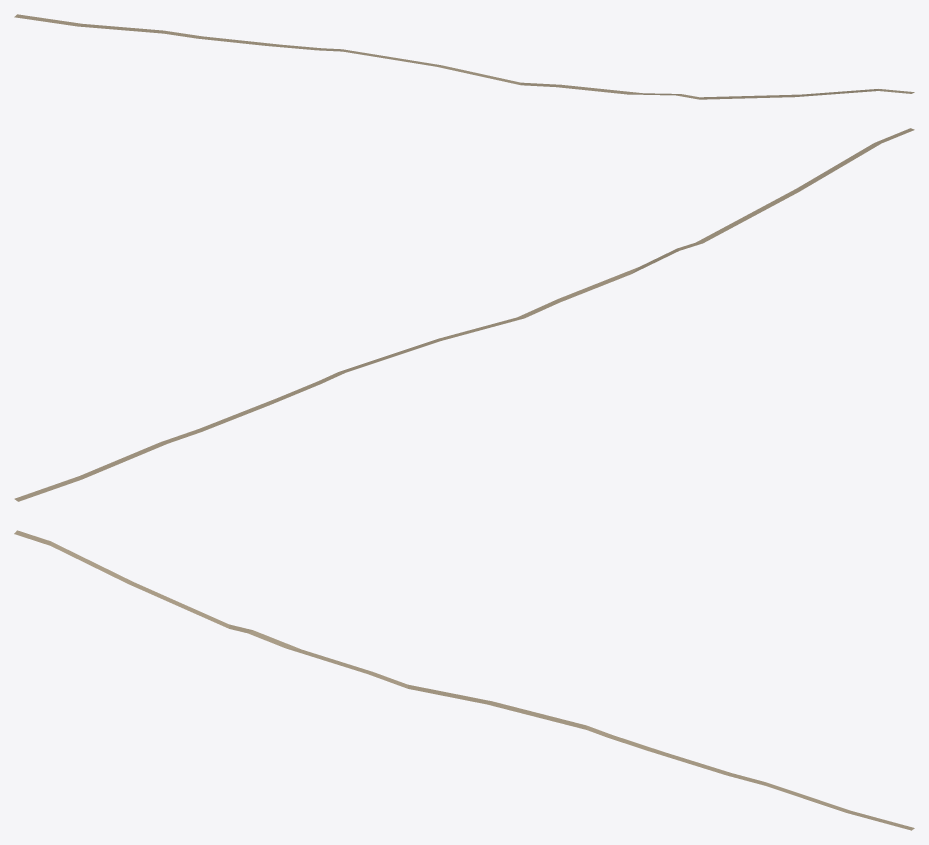
File: farm_-30_-28_track.glb
3 renders of one model, top to bottom at view 1: azimuth 90°, elevation 25°; view 2: azimuth 150°, elevation 25°; view 3: azimuth 270°, elevation 25°, orthographic. The views are drawn at different scales.
Visible parts, largest first — view 1: geometry_0; view 2: geometry_0; view 3: geometry_0.
Boxes of the visible parts, x1=… form: geometry_0: x1=14, y1=14, x2=914, y2=99; geometry_0: x1=14, y1=128, x2=914, y2=501; geometry_0: x1=14, y1=530, x2=914, y2=830.
Bounding box in the file's own units: 201 × 54.58 × 403.
